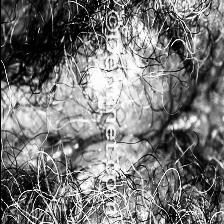Toxin: (114, 72, 168, 156), (72, 50, 104, 130)
